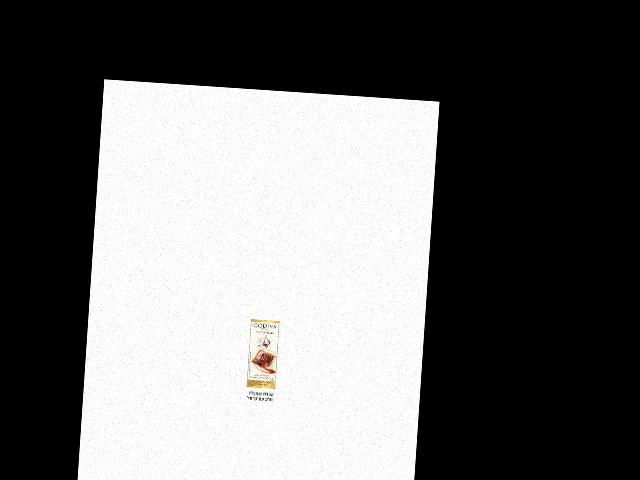chocolate: (246, 317, 282, 391)
